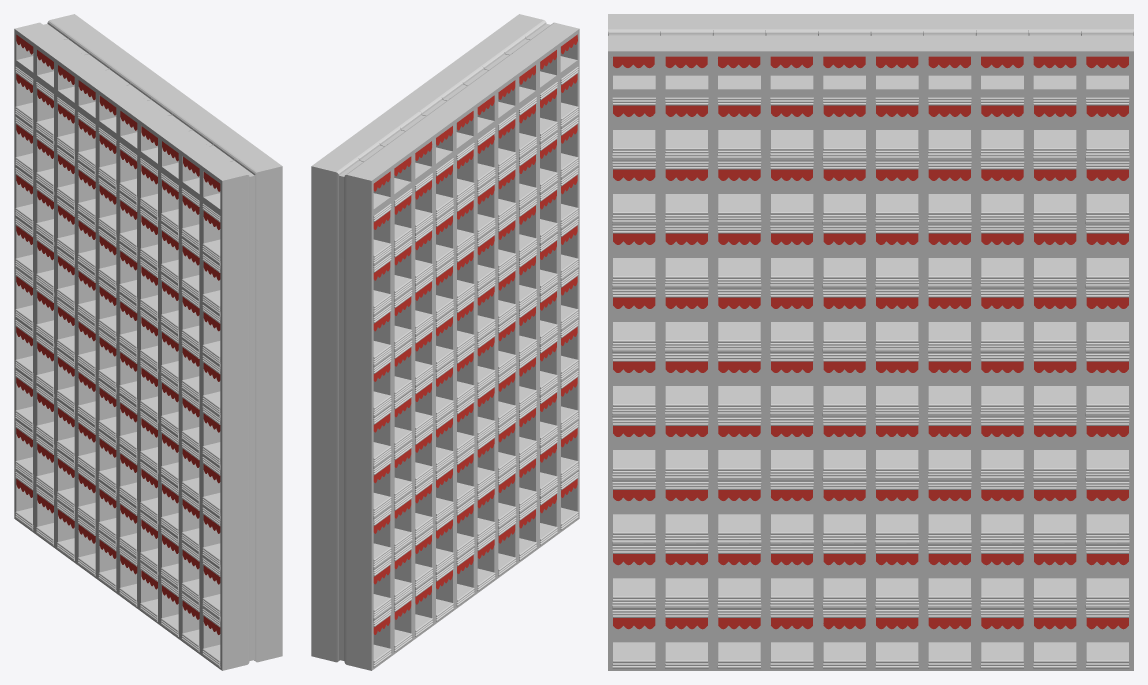
Rendered from Single Shelf.fbx.
The picture shows the model from 3 angles, left to right: view 1: azimuth 30°, elevation 25°; view 2: azimuth 150°, elevation 25°; view 3: azimuth 270°, elevation 25°; orthographic projection. The views are drawn at different scales.
Parts seen in each view (by area): view 1: Cube, Plane; view 2: Cube, Plane; view 3: Cube, Plane.
Part boxes in pixels (left/top/right/bottom): Cube: left=14, top=14, right=282, bottom=670; Plane: left=16, top=34, right=220, bottom=634; Cube: left=311, top=14, right=579, bottom=670; Plane: left=373, top=34, right=577, bottom=634; Cube: left=608, top=14, right=1133, bottom=670; Plane: left=613, top=56, right=1128, bottom=629.
Bounding box in the file's own units: 37.6 × 281 × 216.
